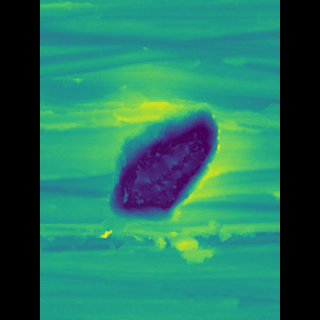Loch: (69, 0, 251, 83), (119, 99, 207, 233), (70, 222, 250, 262)
